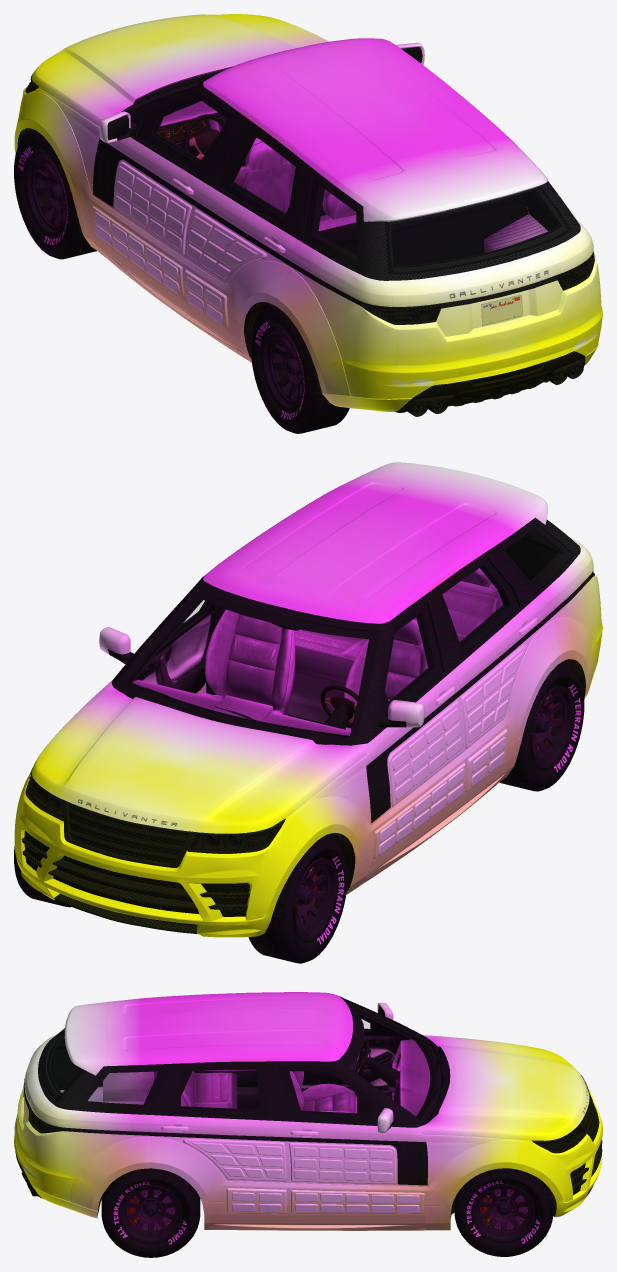
Rendered from baller5.glb.
3 renders of one model, top to bottom at view 1: azimuth 30°, elevation 25°; view 2: azimuth 150°, elevation 25°; view 3: azimuth 270°, elevation 25°, orthographic. The views are drawn at different scales.
Visible parts, largest first — view 1: bodyshell, boot, chassis, door_dside_f, bonnet, door_dside_r, bumper_r, windscreen_r, wheel_lr, wheel_lf, wing_lf, window_lr (+4 smaller); view 2: bodyshell, bonnet, chassis, bumper_f, door_dside_f, door_dside_r, wheel_lf, wheel_lr, wing_lf, boot, door_pside_f, window_lr (+3 smaller); view 3: bodyshell, door_pside_f, door_pside_r, bonnet, chassis, wheel_rr, wheel_rf, boot, wing_rf, window_rr, window_rf, bumper_f (+5 smaller).
Boxes of the visible parts, x1,y1,x2,y2 form: bodyshell: (25,38,601,365); boot: (363,158,592,365); chassis: (125,74,583,416); door_dside_f: (91,88,244,302); bonnet: (31,14,328,126); door_dside_r: (184,118,308,343); bumper_r: (314,308,602,412); windscreen_r: (384,185,571,274); wheel_lr: (250,304,349,433); wheel_lf: (14,129,96,259); wing_lf: (25,87,106,258); window_lr: (218,127,299,226); bodyshell: (25,473,601,885); bonnet: (31,681,367,833); chassis: (113,523,584,846); bumper_f: (14,774,303,937); door_dside_f: (366,592,466,862); door_dside_r: (431,550,558,795); wheel_lf: (248,834,347,963); wheel_lr: (499,661,584,791); wing_lf: (281,755,373,894); boot: (365,462,581,580); door_pside_f: (99,576,215,693); window_lr: (439,559,518,656); bodyshell: (35,992,599,1230); door_pside_f: (270,1062,427,1215); door_pside_r: (151,1062,288,1215); bonnet: (417,1035,589,1140); chassis: (26,998,465,1214); wheel_rr: (101,1168,200,1257); wheel_rf: (454,1168,553,1256); boot: (17,1002,108,1161); wing_rf: (423,1134,537,1230); window_rr: (172,1066,267,1116); window_rf: (279,1066,382,1122); bumper_f: (527,1090,602,1217).
Bounding box in the file's own units: 2.42 × 1.84 × 5.14.
Materials: 22 (21 with a texture image).
